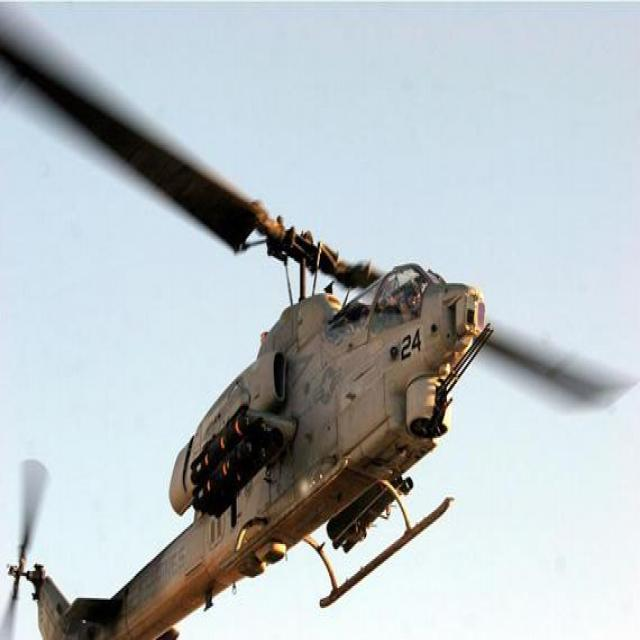MIL_HELO: (0, 5, 621, 640)
